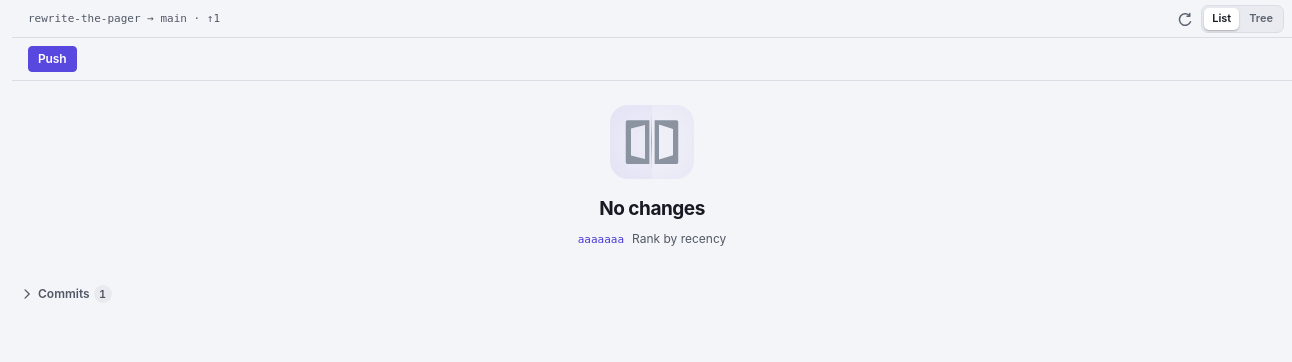
pushing from the changes tab › offers neither force nor a pull that does not exist when the remote is ahead
Click the button "Push". click: (52, 59)
box: [28,46,77,72]
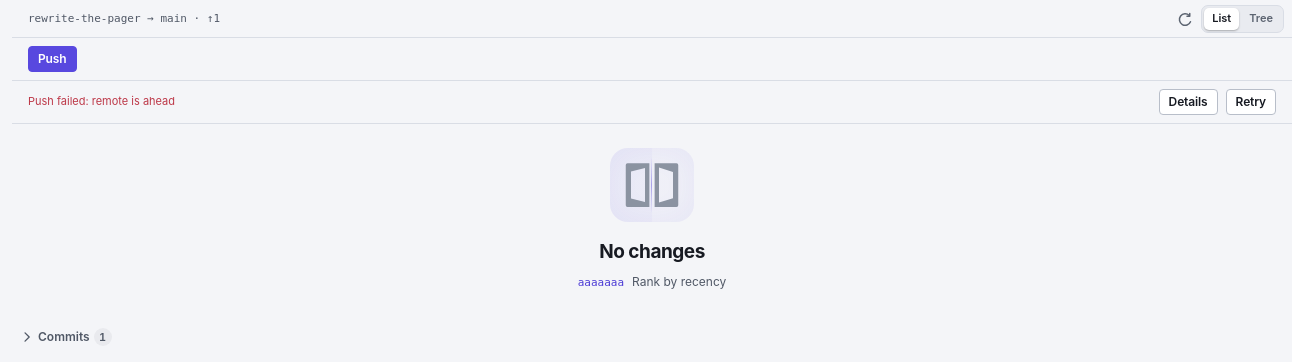
Now the message reads "Push failed: remote is ahead", box [28,94,175,108]
